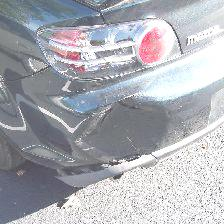bumper_dent: (28, 64, 172, 172)
